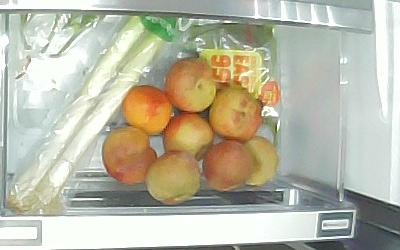prune: (101, 126, 158, 185), (145, 151, 201, 204), (208, 86, 263, 139), (165, 57, 216, 112), (122, 84, 174, 134), (204, 140, 253, 192), (163, 112, 213, 160), (244, 137, 278, 186)
